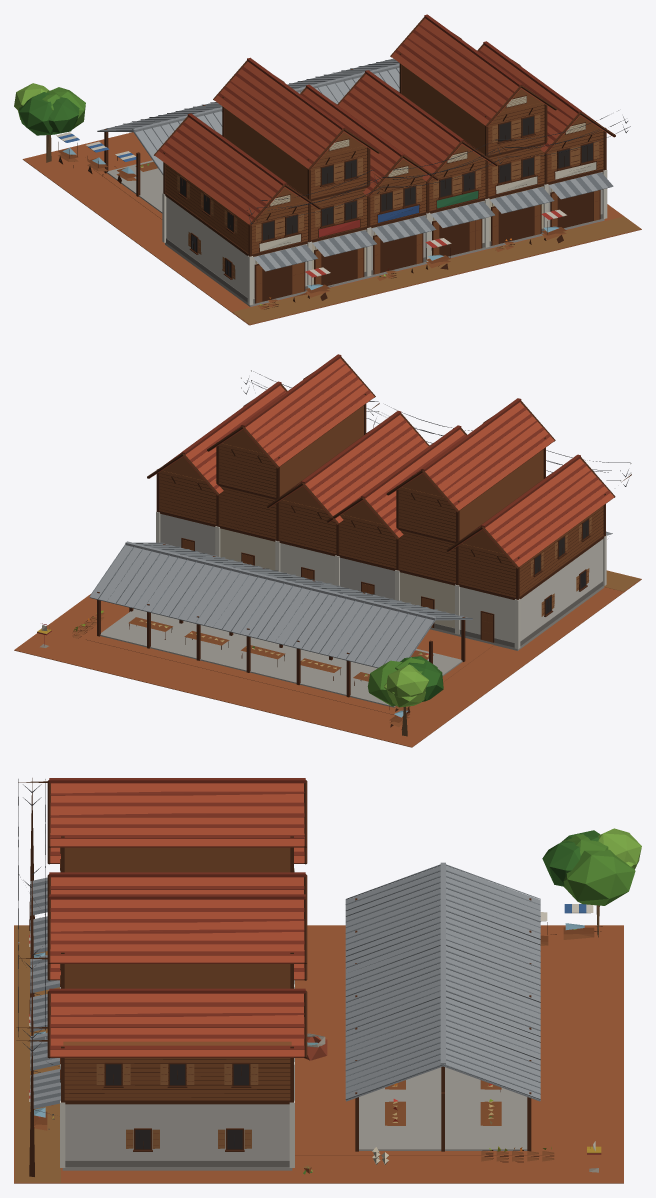
File: shop_5.glb
3 views of the same model, one above another, from view 1: azimuth 30°, elevation 25°; view 2: azimuth 150°, elevation 25°; view 3: azimuth 270°, elevation 25° (orthographic). The views are drawn at different scales.
Parts seen in each view (by area): view 1: body, windows; view 2: body; view 3: body, windows.
Part boxes in pixels (box(x1,y1,x2,y2)): body: box(14, 14, 641, 325); windows: box(180, 116, 592, 277); body: box(14, 354, 641, 747); body: box(14, 778, 641, 1183); windows: box(52, 1064, 248, 1149).
Bounding box in the file's own units: 33.03 × 12.74 × 32.85.
